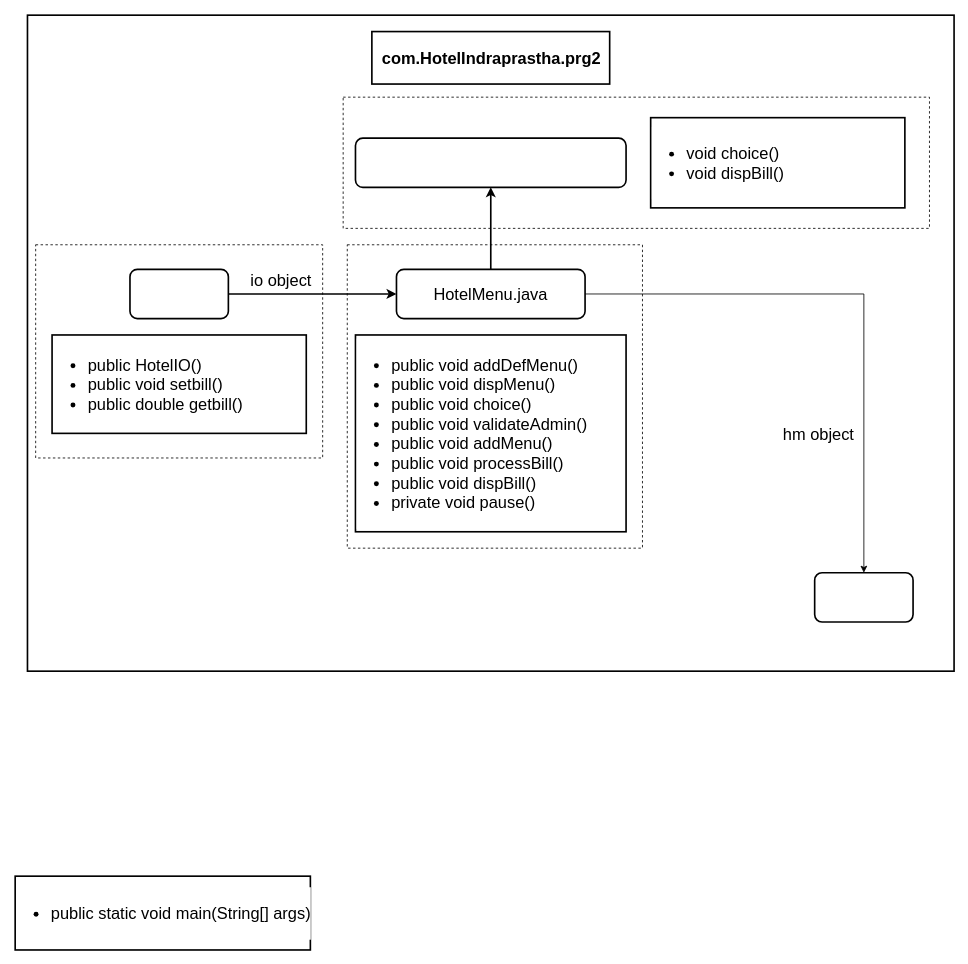
This 968x964 diagram has some shape labels left out. Each missing label, with the centre of its shape:
HotelInterface .java: point 490,162
HotelIO.java: point 179,293
Main.java: point 863,597
